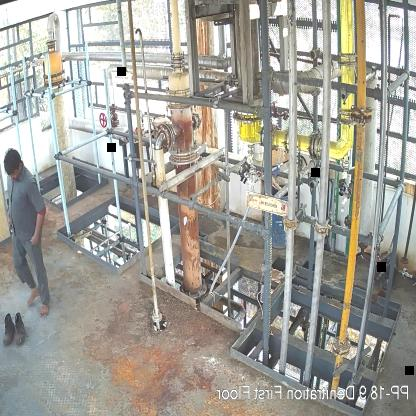no_shoes: (39, 296, 52, 317)
shoes: (0, 311, 17, 351), (14, 312, 29, 345)
